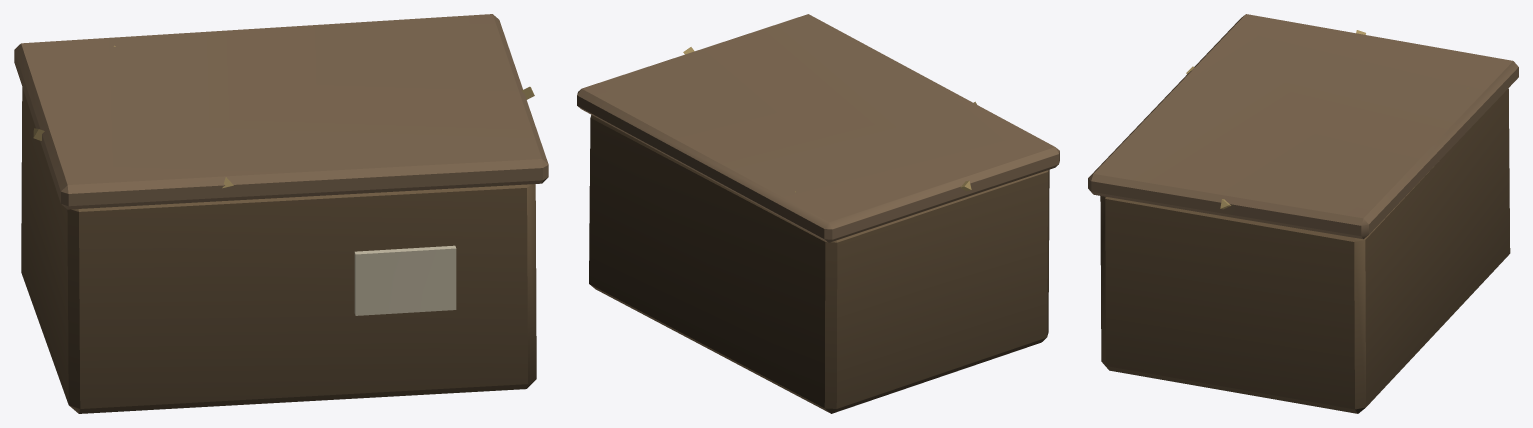
File: ph_item_quast_crate.glb
3 renders of one model, left to right at view 1: azimuth 30°, elevation 25°; view 2: azimuth 150°, elevation 25°; view 3: azimuth 270°, elevation 25°, orthographic. The views are drawn at different scales.
Visible parts, largest first — view 1: ph_item_quast_crate; view 2: ph_item_quast_crate; view 3: ph_item_quast_crate.
Part boxes in pixels (x1,y1,x2,y2): ph_item_quast_crate: [14, 14, 548, 413]; ph_item_quast_crate: [577, 14, 1059, 413]; ph_item_quast_crate: [1088, 14, 1518, 413].
Size of the model in its own units: 0.3443 by 0.1552 by 0.3004.
